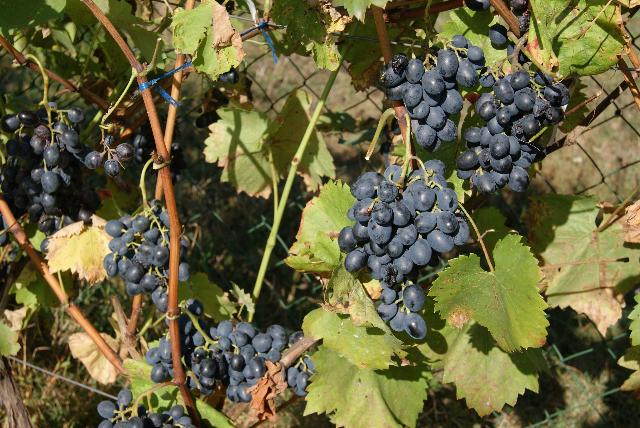grapes: (338, 156, 470, 340), (456, 69, 570, 195), (0, 108, 101, 235), (180, 299, 304, 402), (381, 35, 485, 151), (102, 200, 170, 311), (98, 389, 195, 428), (75, 135, 135, 178)
